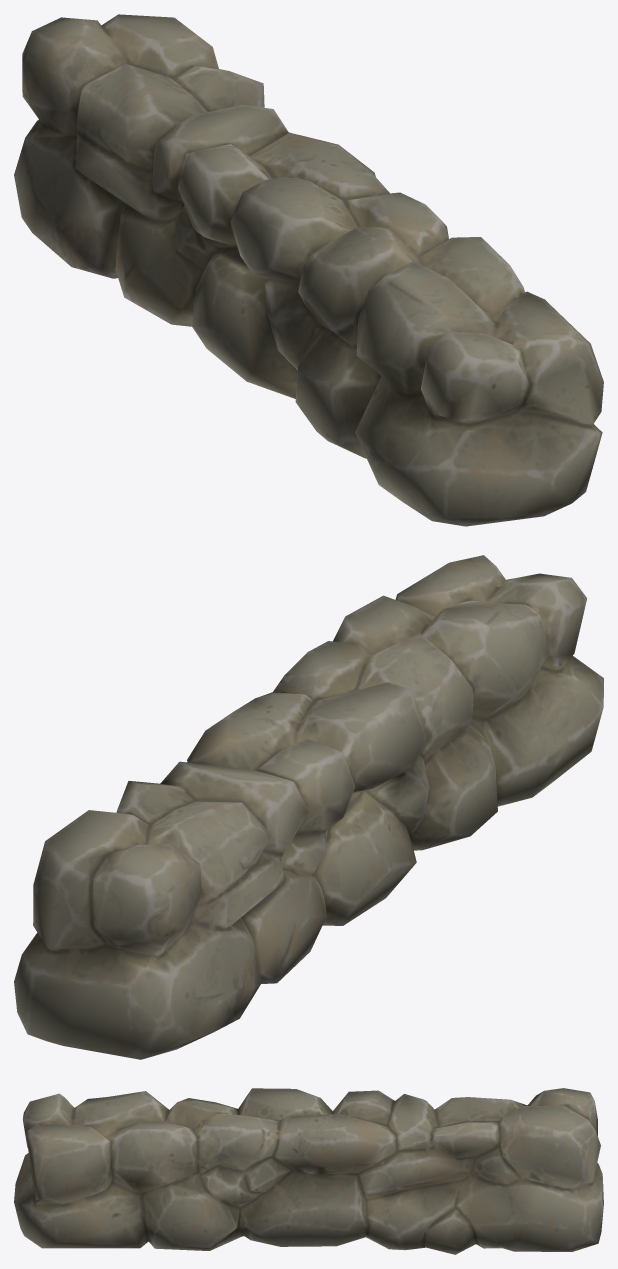
Rendered from GN_AiQiang_01.fbx.
The picture shows the model from 3 angles, top to bottom: view 1: azimuth 30°, elevation 25°; view 2: azimuth 150°, elevation 25°; view 3: azimuth 270°, elevation 25°; orthographic projection. The views are drawn at different scales.
Visible parts, largest first — view 1: GN_AiQiang_01; view 2: GN_AiQiang_01; view 3: GN_AiQiang_01.
Part boxes in pixels (x1,y1,x2,y2): GN_AiQiang_01: (14,14,603,526); GN_AiQiang_01: (14,555,603,1059); GN_AiQiang_01: (14,1088,603,1254).
Size of the model in its own units: 62.74 by 64.14 by 257.
